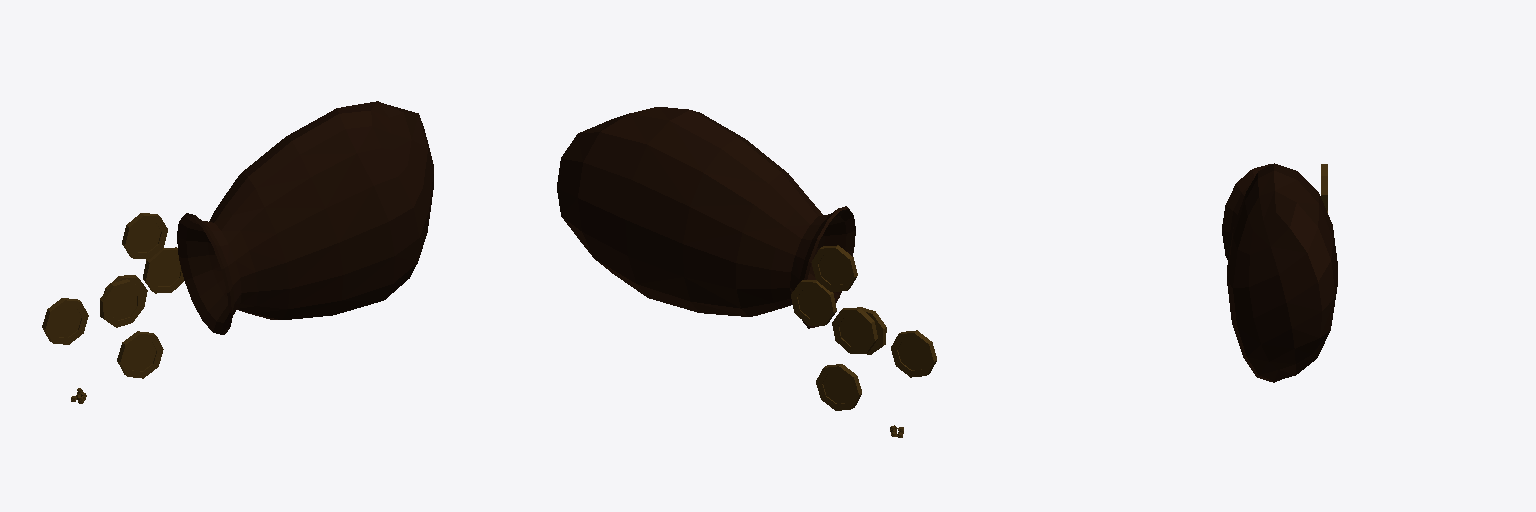
The model's file is Coin_Pile_Cylinder.obj.
3 views of the same model, side by side, from view 1: azimuth 30°, elevation 25°; view 2: azimuth 150°, elevation 25°; view 3: azimuth 270°, elevation 25° (orthographic).
Visible parts, largest first — view 1: Bag_Coins_Cylinder.001; view 2: Bag_Coins_Cylinder.001; view 3: Bag_Coins_Cylinder.001.
Part boxes in pixels (left/top/right/bottom): Bag_Coins_Cylinder.001: left=42, top=101, right=433, bottom=378; Bag_Coins_Cylinder.001: left=557, top=107, right=936, bottom=410; Bag_Coins_Cylinder.001: left=1222, top=163, right=1337, bottom=382.
Bounding box in the file's own units: 3.95 × 2.48 × 1.05.